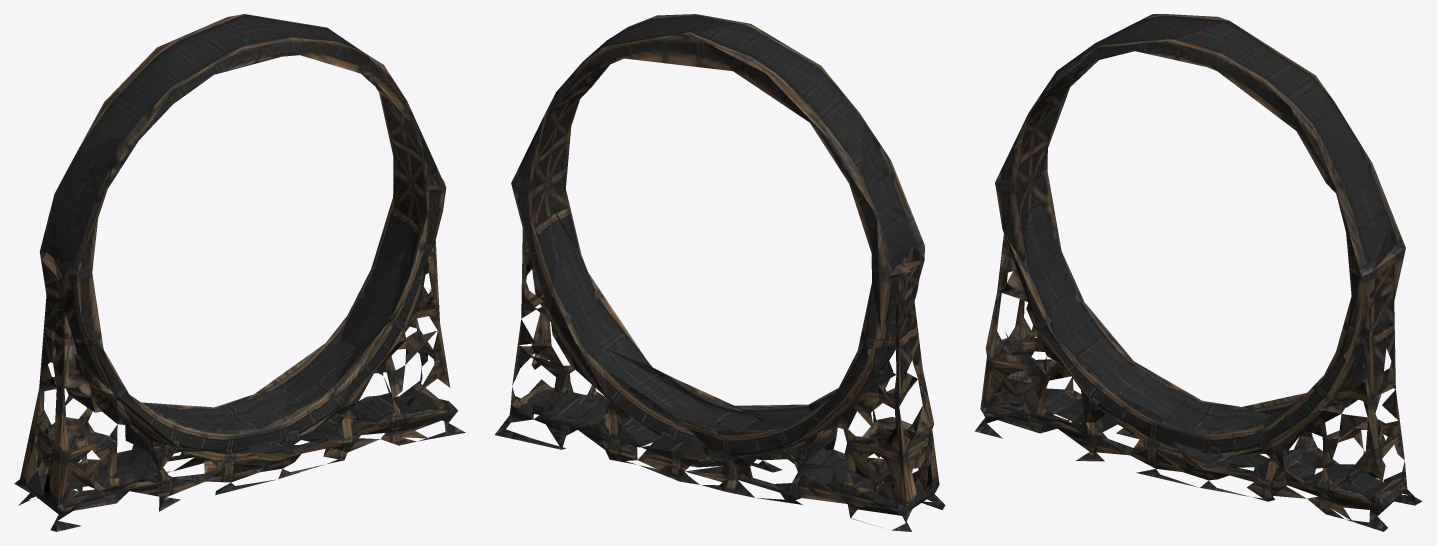
The model's file is stunt-giant-loop.lod.glb.
3 views of the same model, side by side, from view 1: azimuth 30°, elevation 25°; view 2: azimuth 150°, elevation 25°; view 3: azimuth 330°, elevation 25° (orthographic).
Visible parts, largest first — view 1: output_unwrapped; view 2: output_unwrapped; view 3: output_unwrapped.
Boxes of the visible parts, x1,y1,x2,y2 form: output_unwrapped: (14, 14, 465, 531); output_unwrapped: (495, 14, 945, 531); output_unwrapped: (974, 14, 1421, 531).
Bounding box in the file's own units: 1.79 × 1.84 × 0.3253.
Materials: 1 (1 with a texture image).
